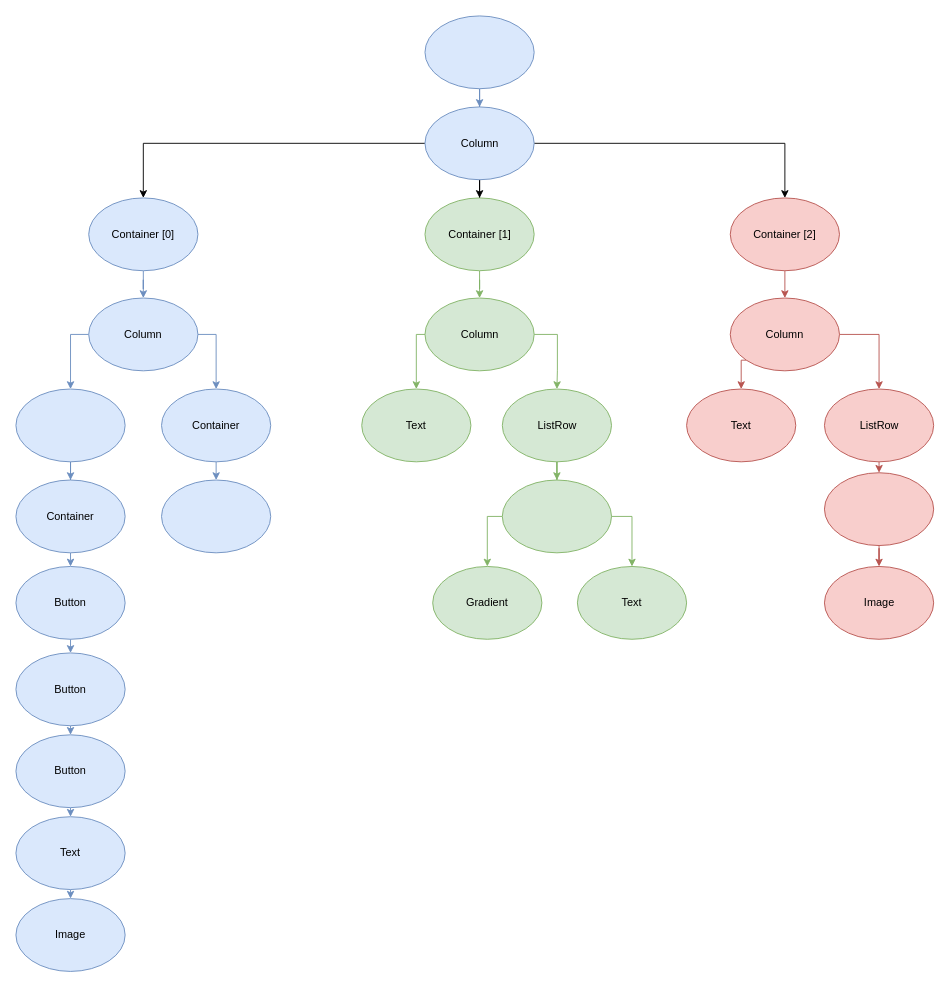
The diagram is 950 pixels wide and 987 high, and some of its shapes have lost their labels. The box of each missing label's shape, as (x1, y1, x2, y2) in pixels:
Cell: (824, 472, 934, 546)
Container Cell: (501, 479, 612, 553)
Padding: (161, 479, 271, 553)
Scaffold: (424, 15, 534, 89)
Stack [0]: (15, 388, 125, 462)
